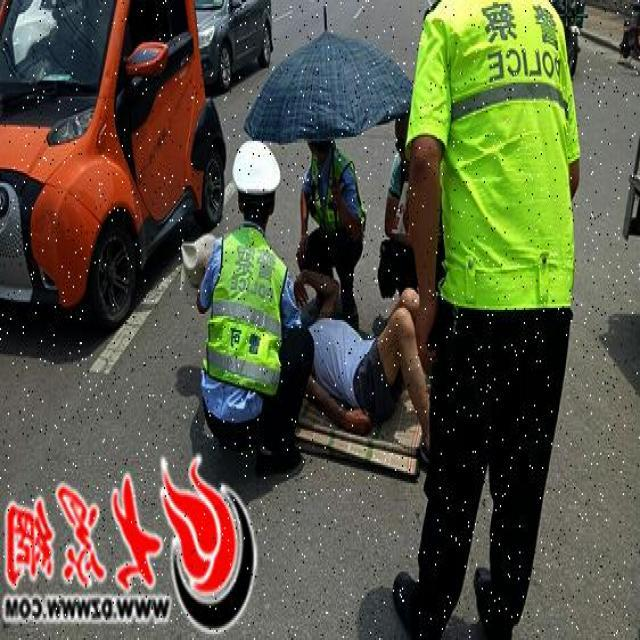fall: (302, 280, 430, 453)
